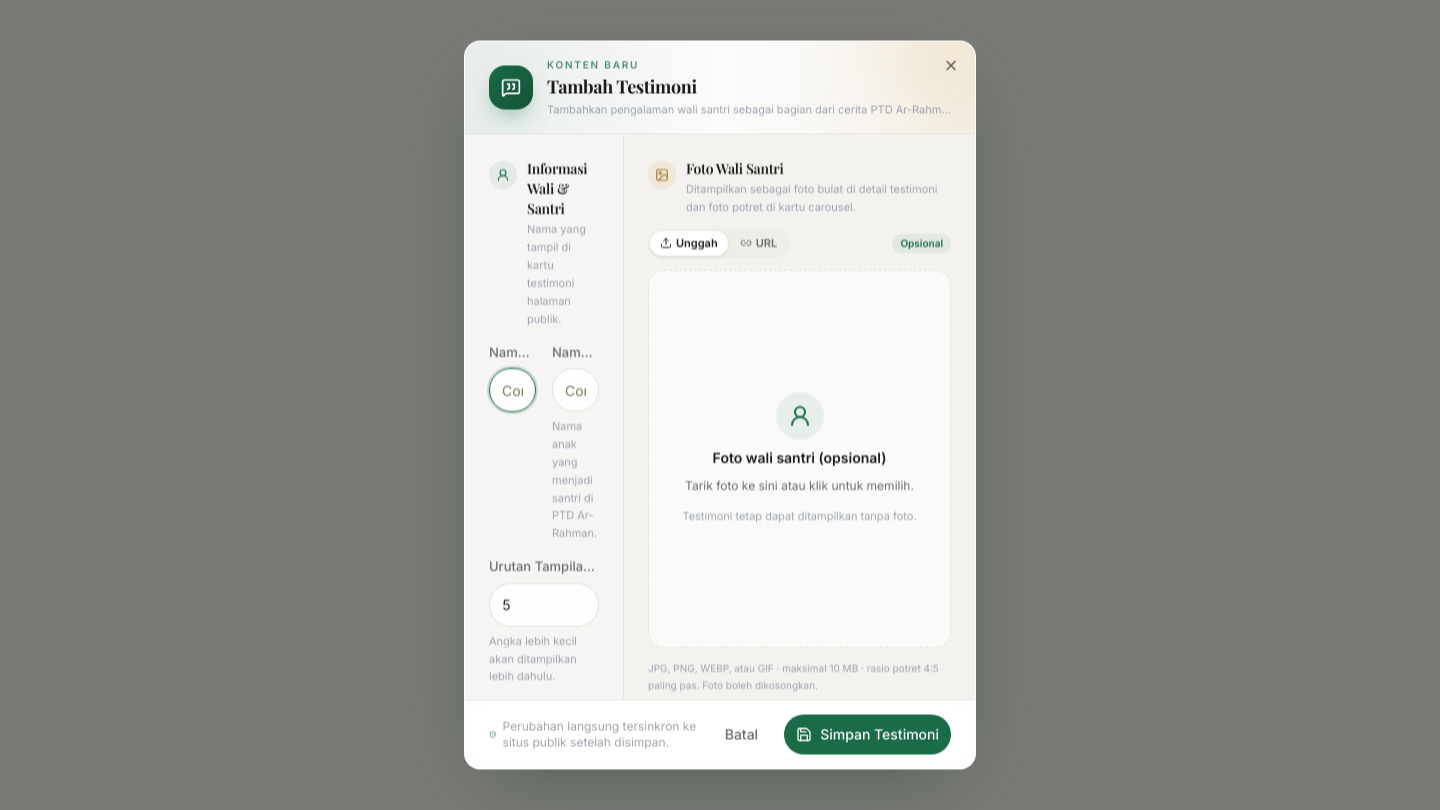
TestimonialFormDialog — validasi › menolak urutan desimal dan tidak menyimpan
This screenshot has width=1440, height=810.
Type "Bapak Ahmad Fauzi" into the field labelled "Nama Wali Santri *" at [512, 390], box [489,368,536,412]
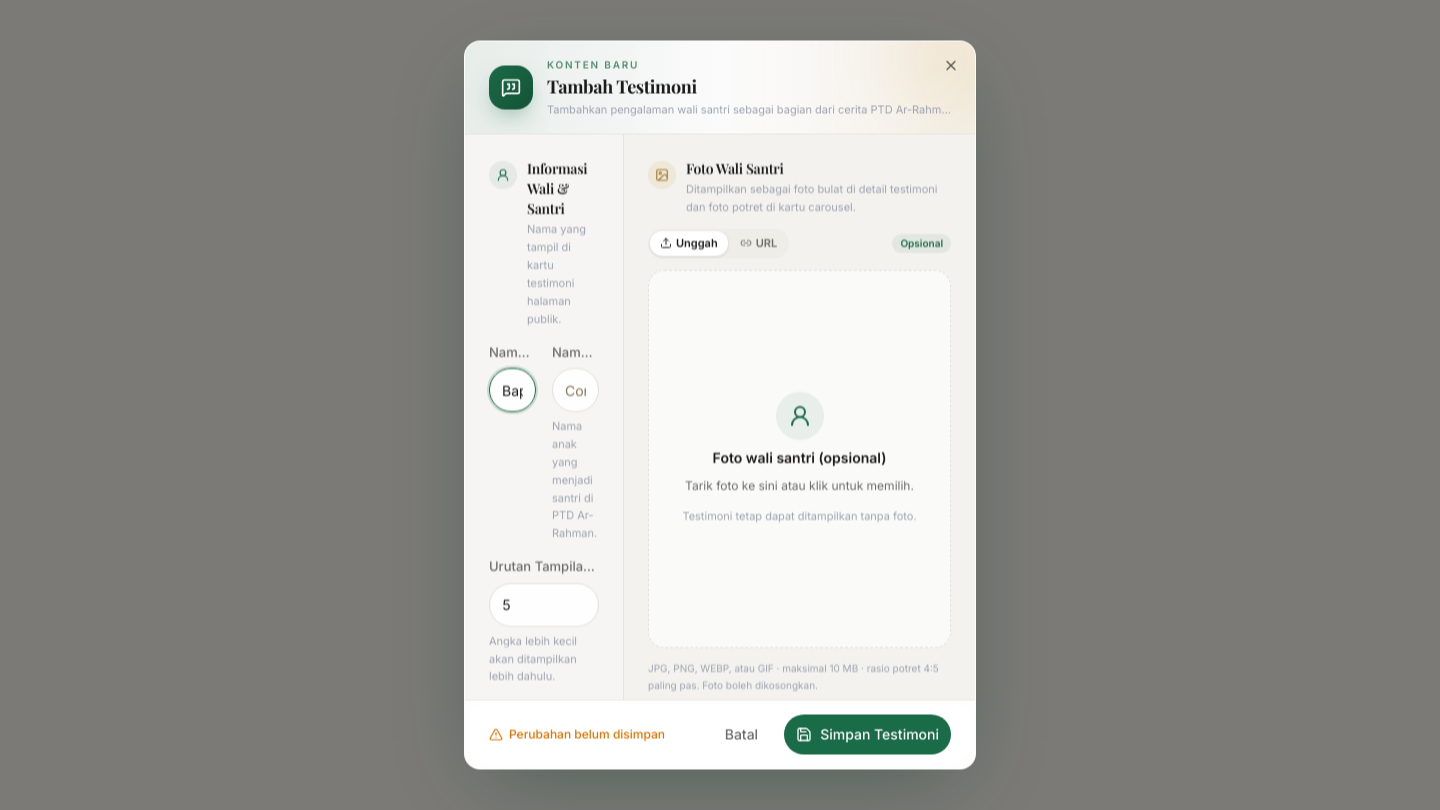
Type "Muhammad Rizki" into the field labelled "Nama Anak / Santri *" at [576, 390], box [552,368,599,412]
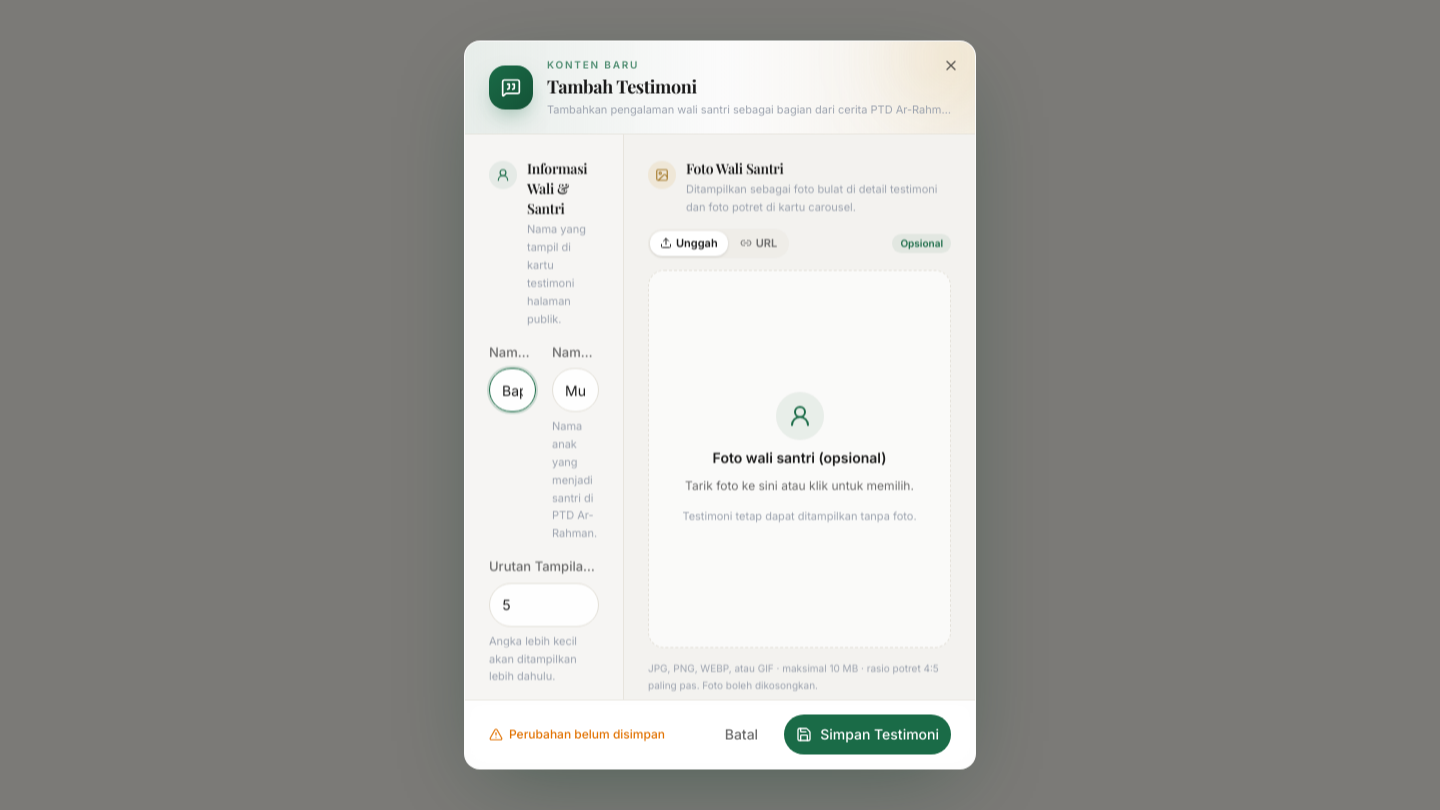
Replace the text in the field labelled "Urutan Tampilan *" with "1.5" at [544, 604], box [489,582,599,626]
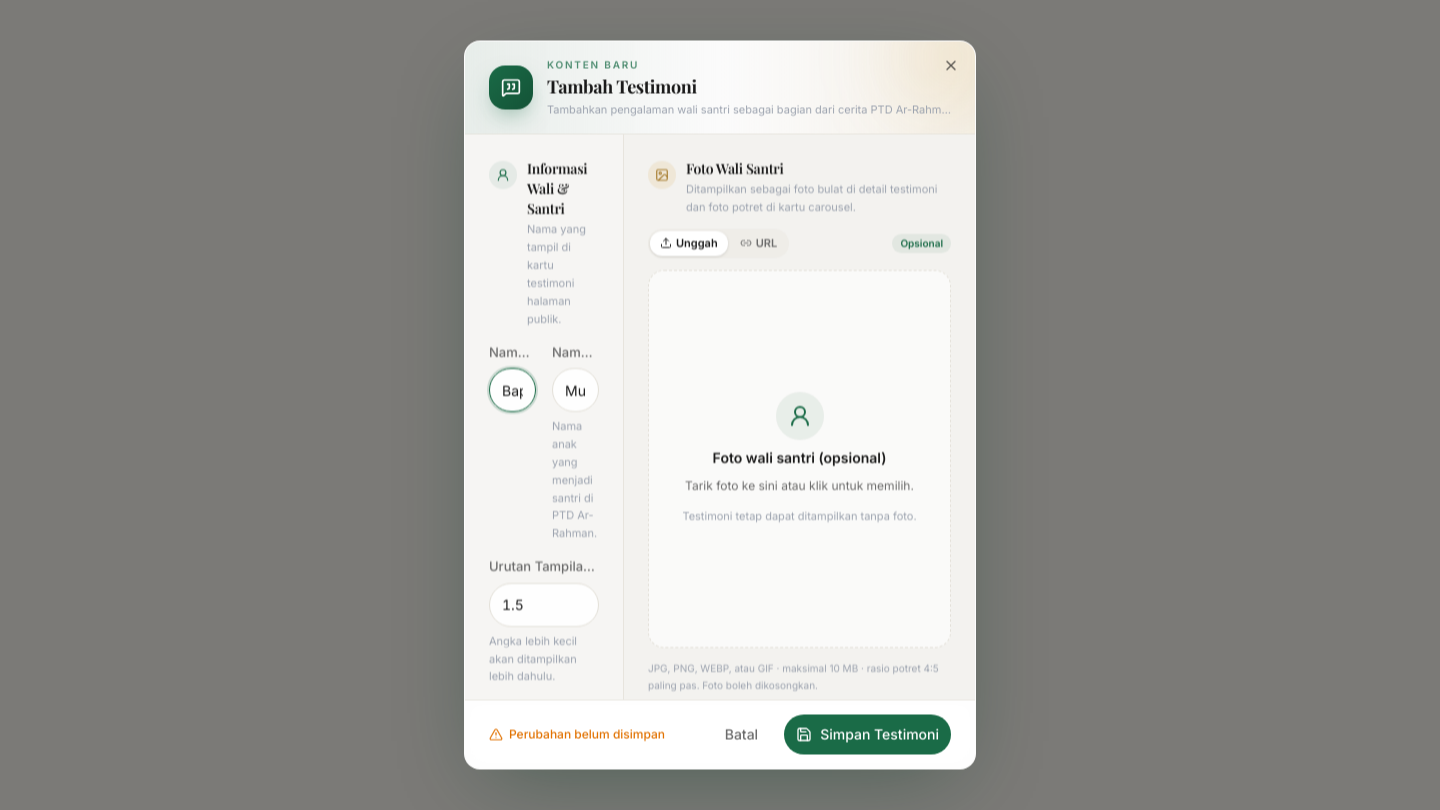
Click the button "Simpan Testimoni" at [868, 734], box [784,714,951,754]
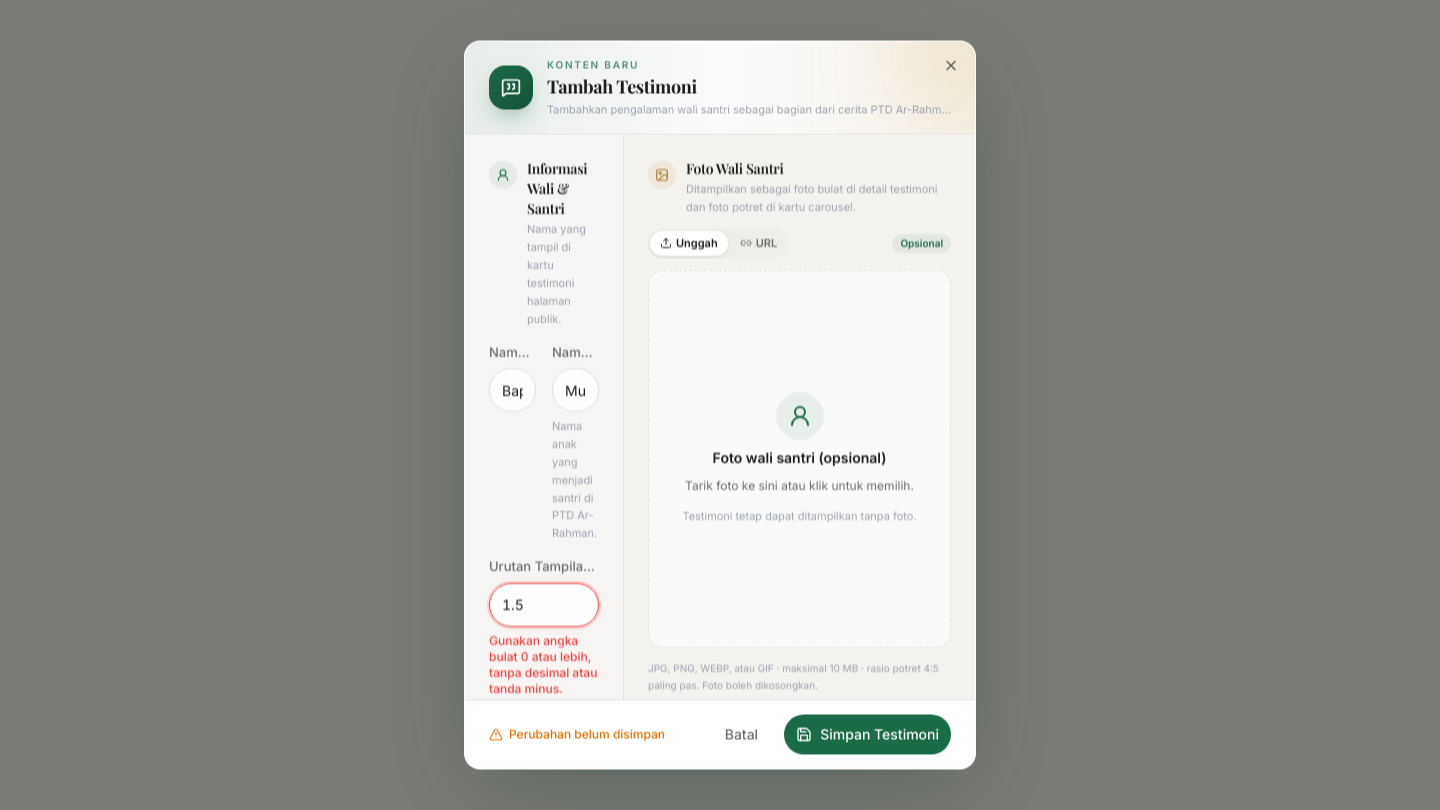
Check: the text "Gunakan angka bulat 0 atau lebih, tanpa desimal atau tanda minus." is shown, box [489,632,599,696]
